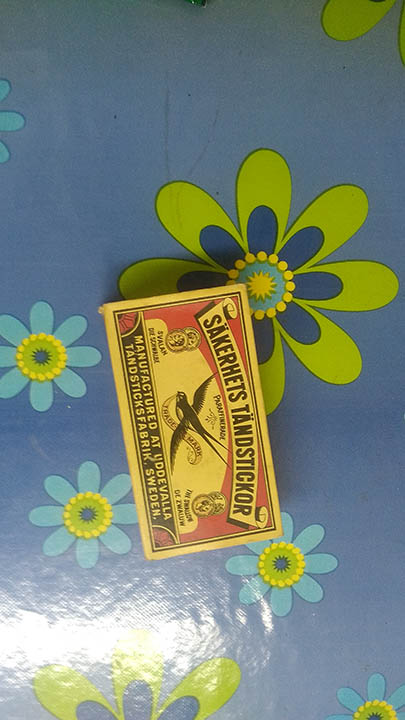match-sticks .90$: (96, 288, 300, 557)
